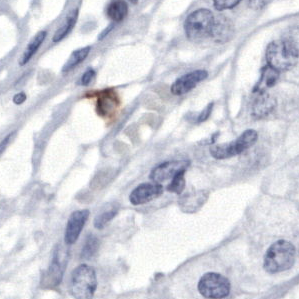Lymphocyte: (84, 87, 122, 120)
